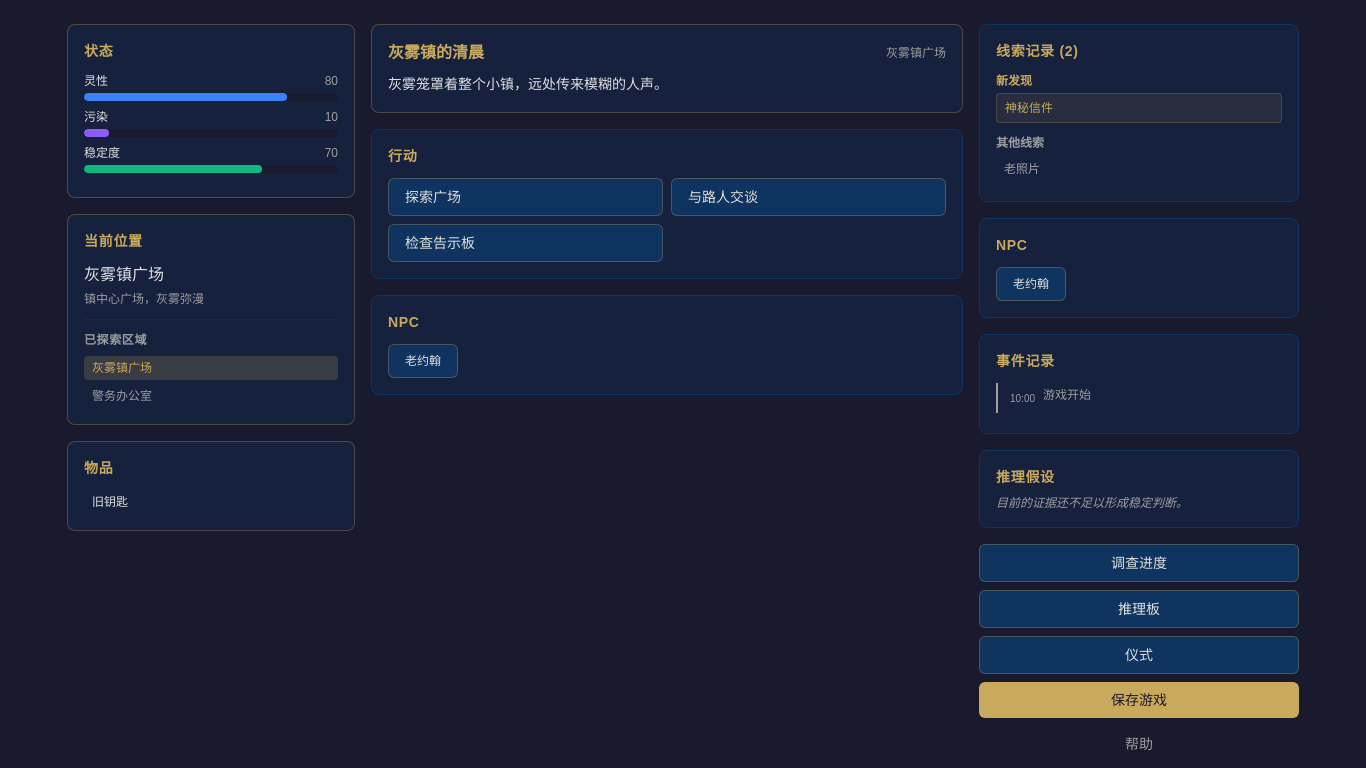
Scenario: GamePage › opens and closes progress modal
// Click "调查进度" button
Click the button "调查进度" at (1139,563), box [979,544,1299,582]
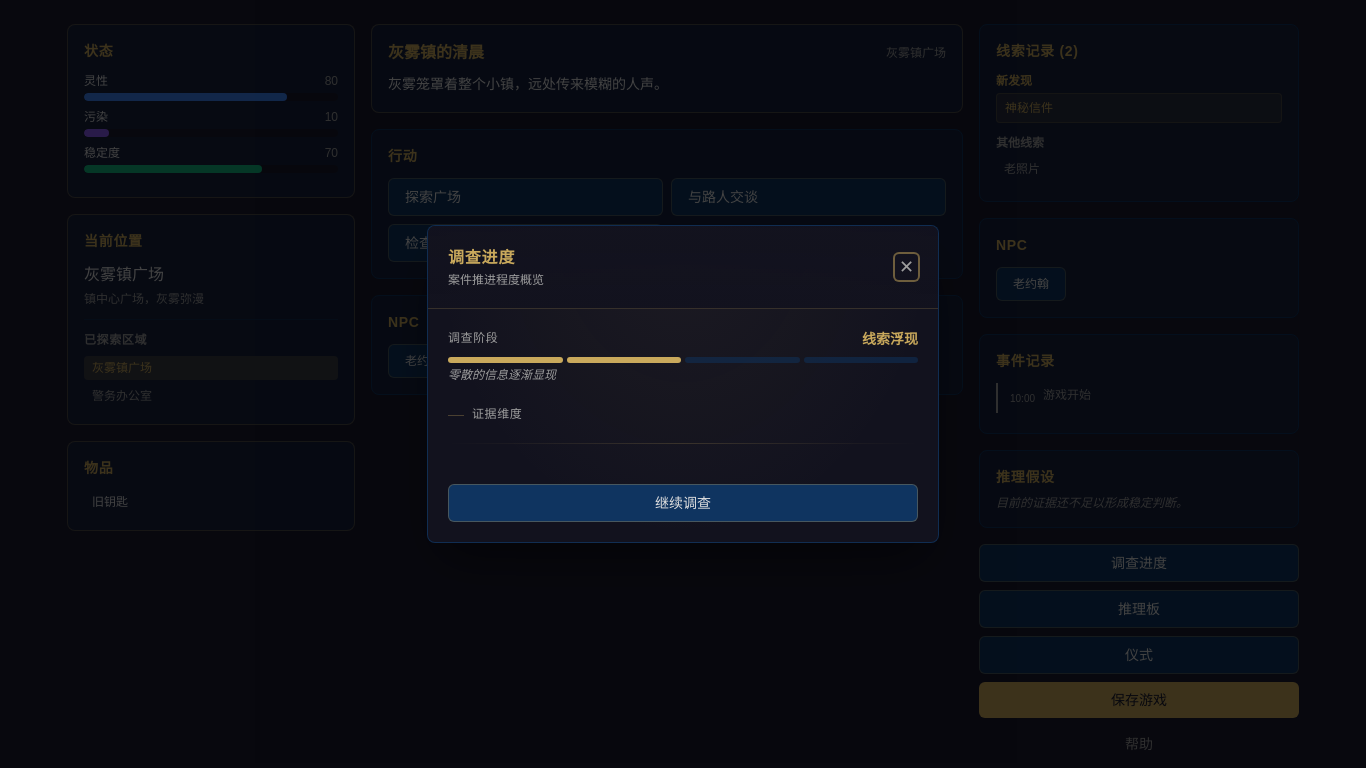
Check: the text "案件推进程度概览" is shown, box [448,272,544,288]
// Click "继续调查" to close
Click the button "继续调查" at (683,503), box [448,484,918,522]
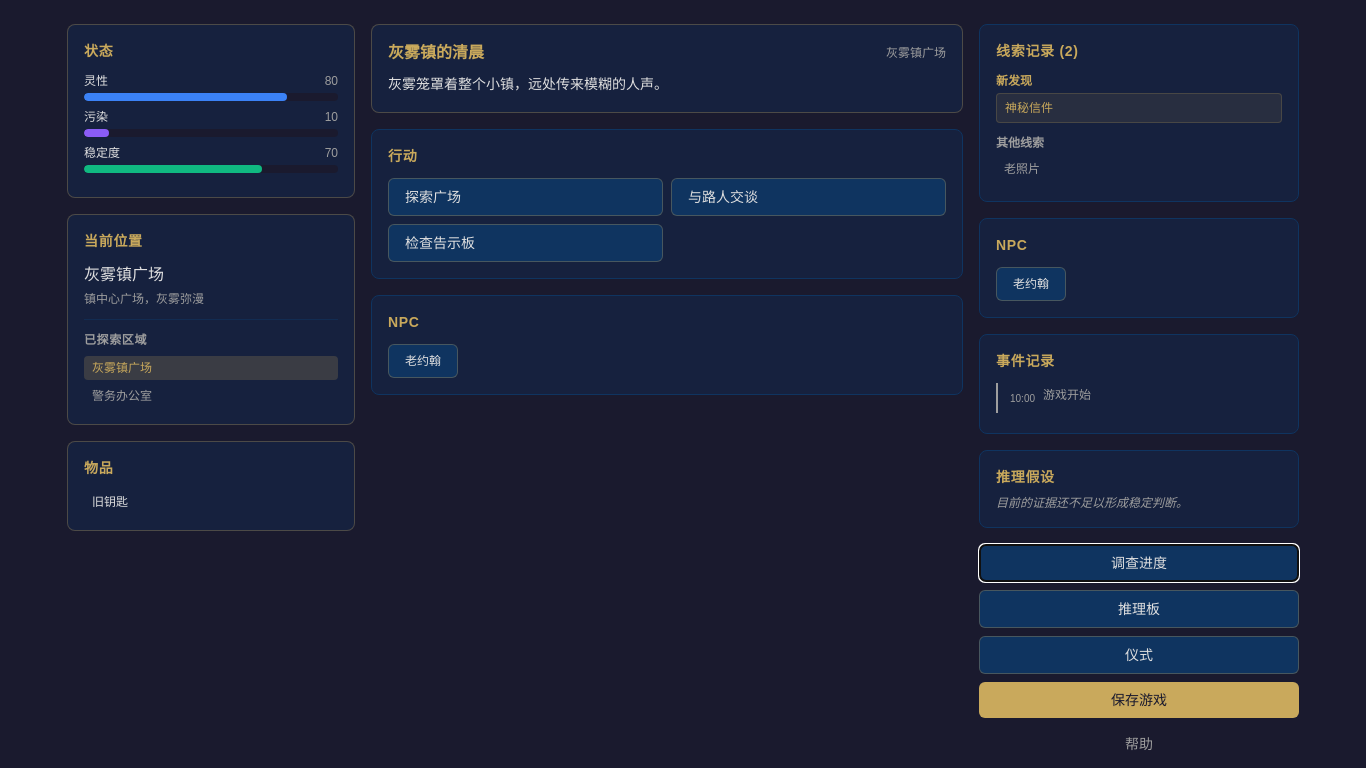
Check: the text "案件推进程度概览" is gone
